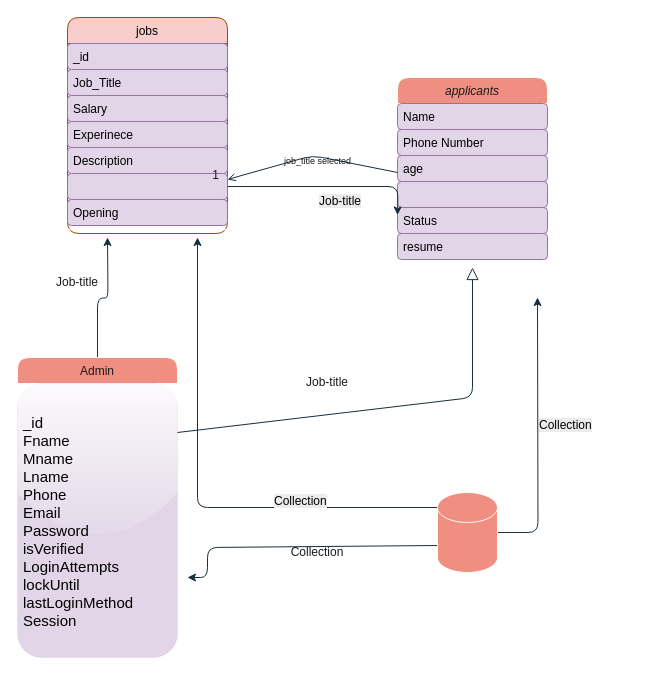
Some shapes in this 645 by 675 pixel diagram are drawn without their labels. The shapes that lost their labels are listed below. From the top down, each one's centre as x and y in pixels, then its label:
the point at 147,186: Skills
the point at 472,194: Email Address
the point at 467,532: Job_Protal
